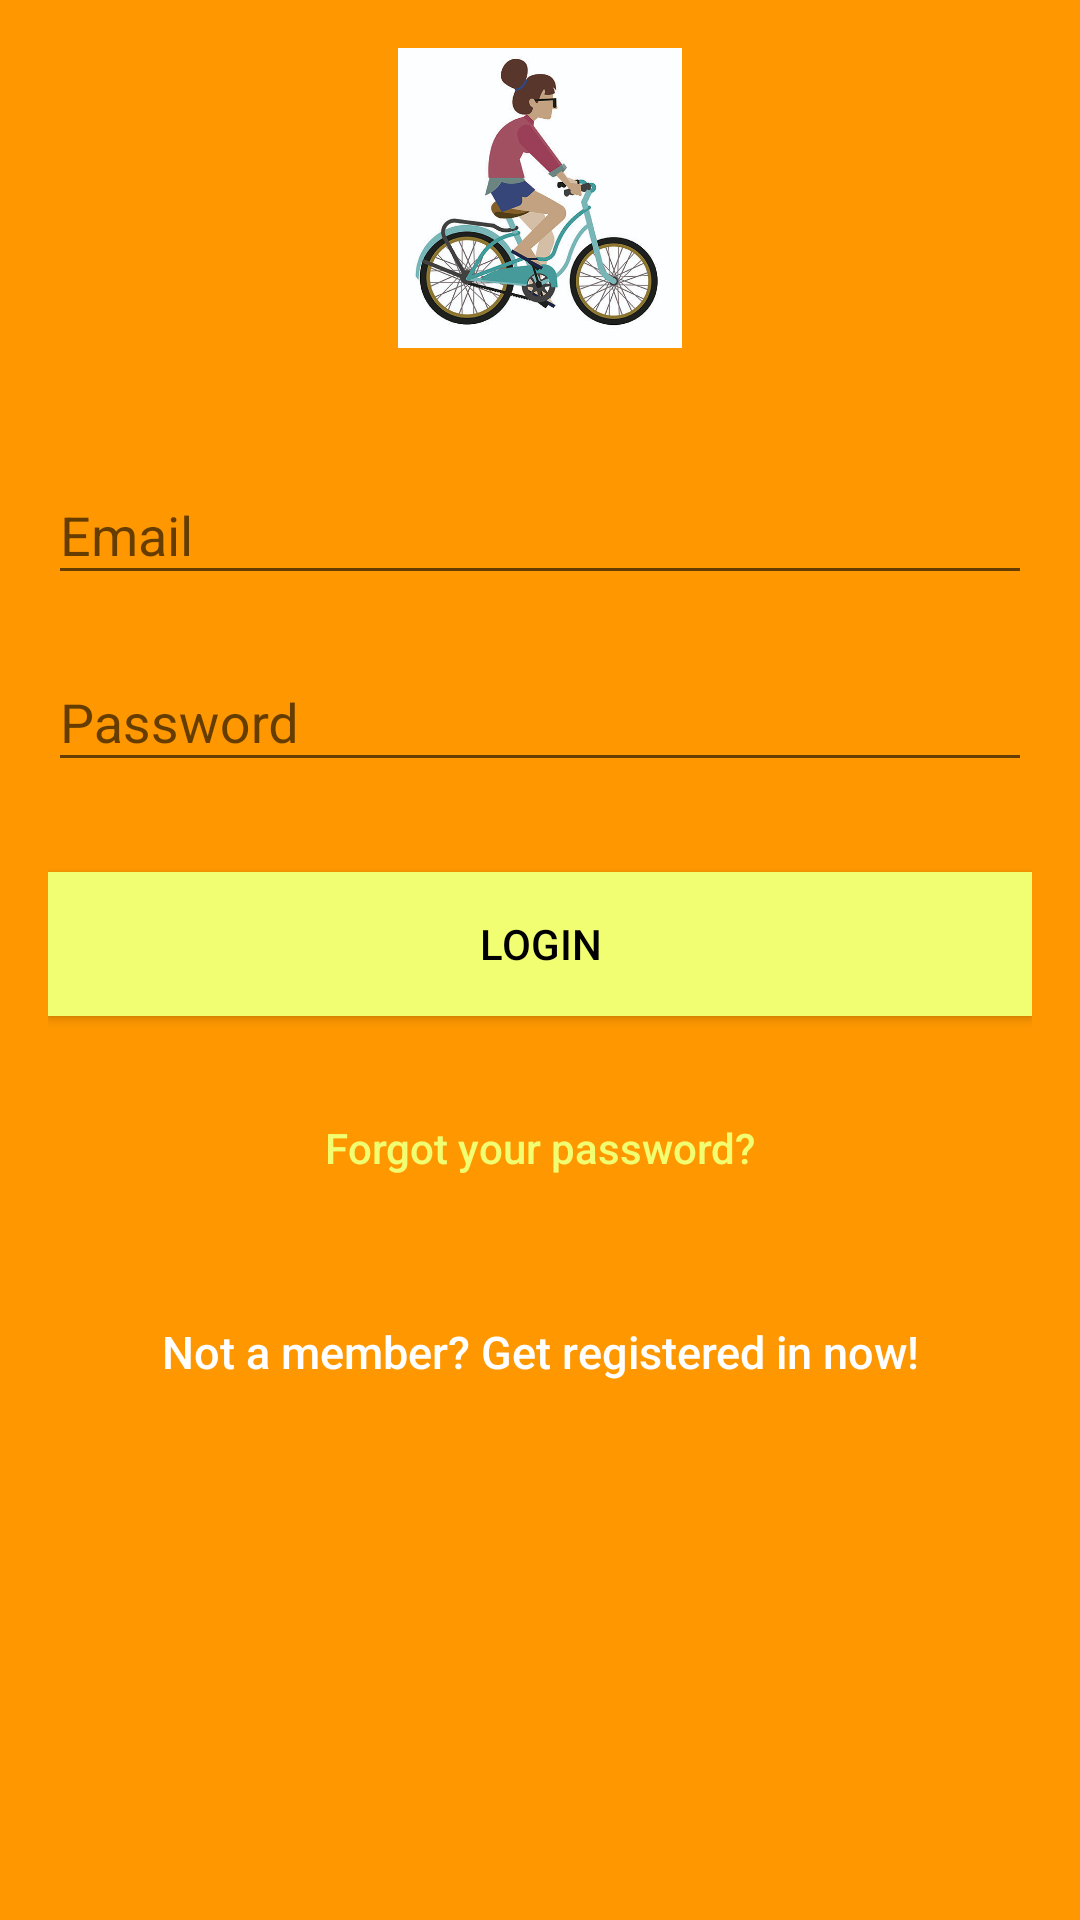

Locate icon controls on the screen. Image size 1080 × 1920, boxes as (x1, y1, x2, y2).
biker: (398, 48, 682, 348)
